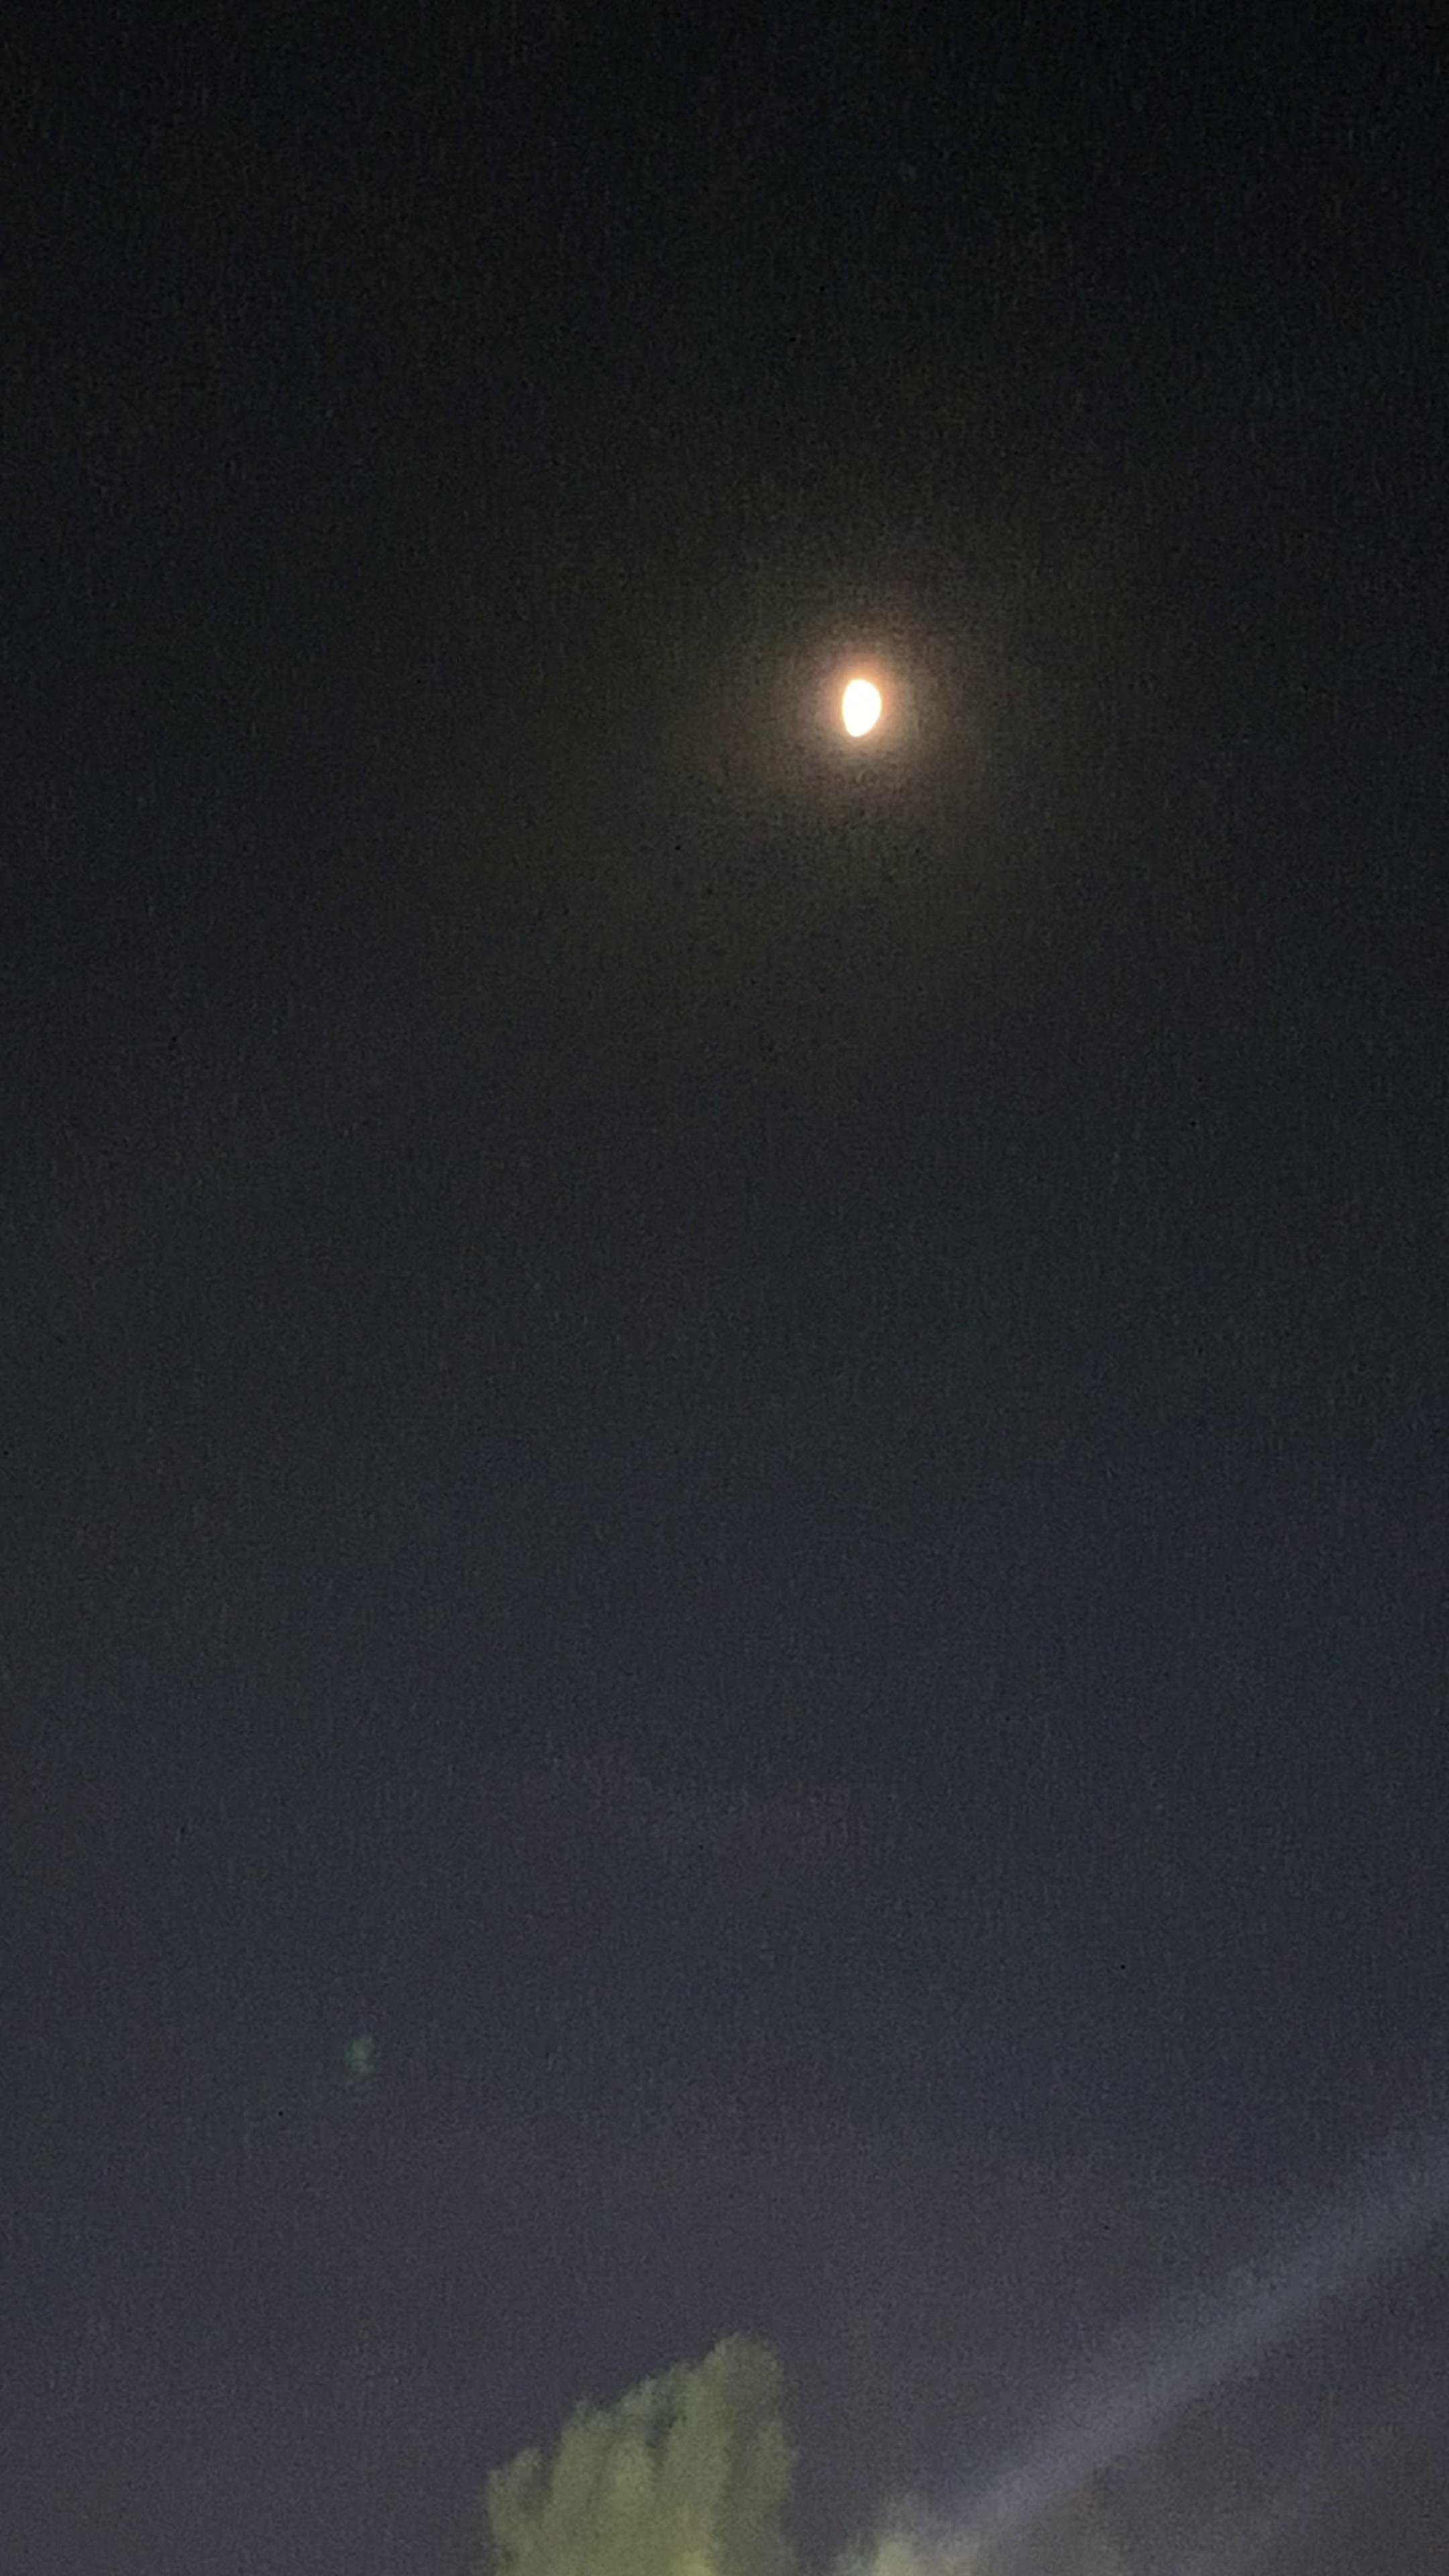moon: (814, 632, 931, 761)
